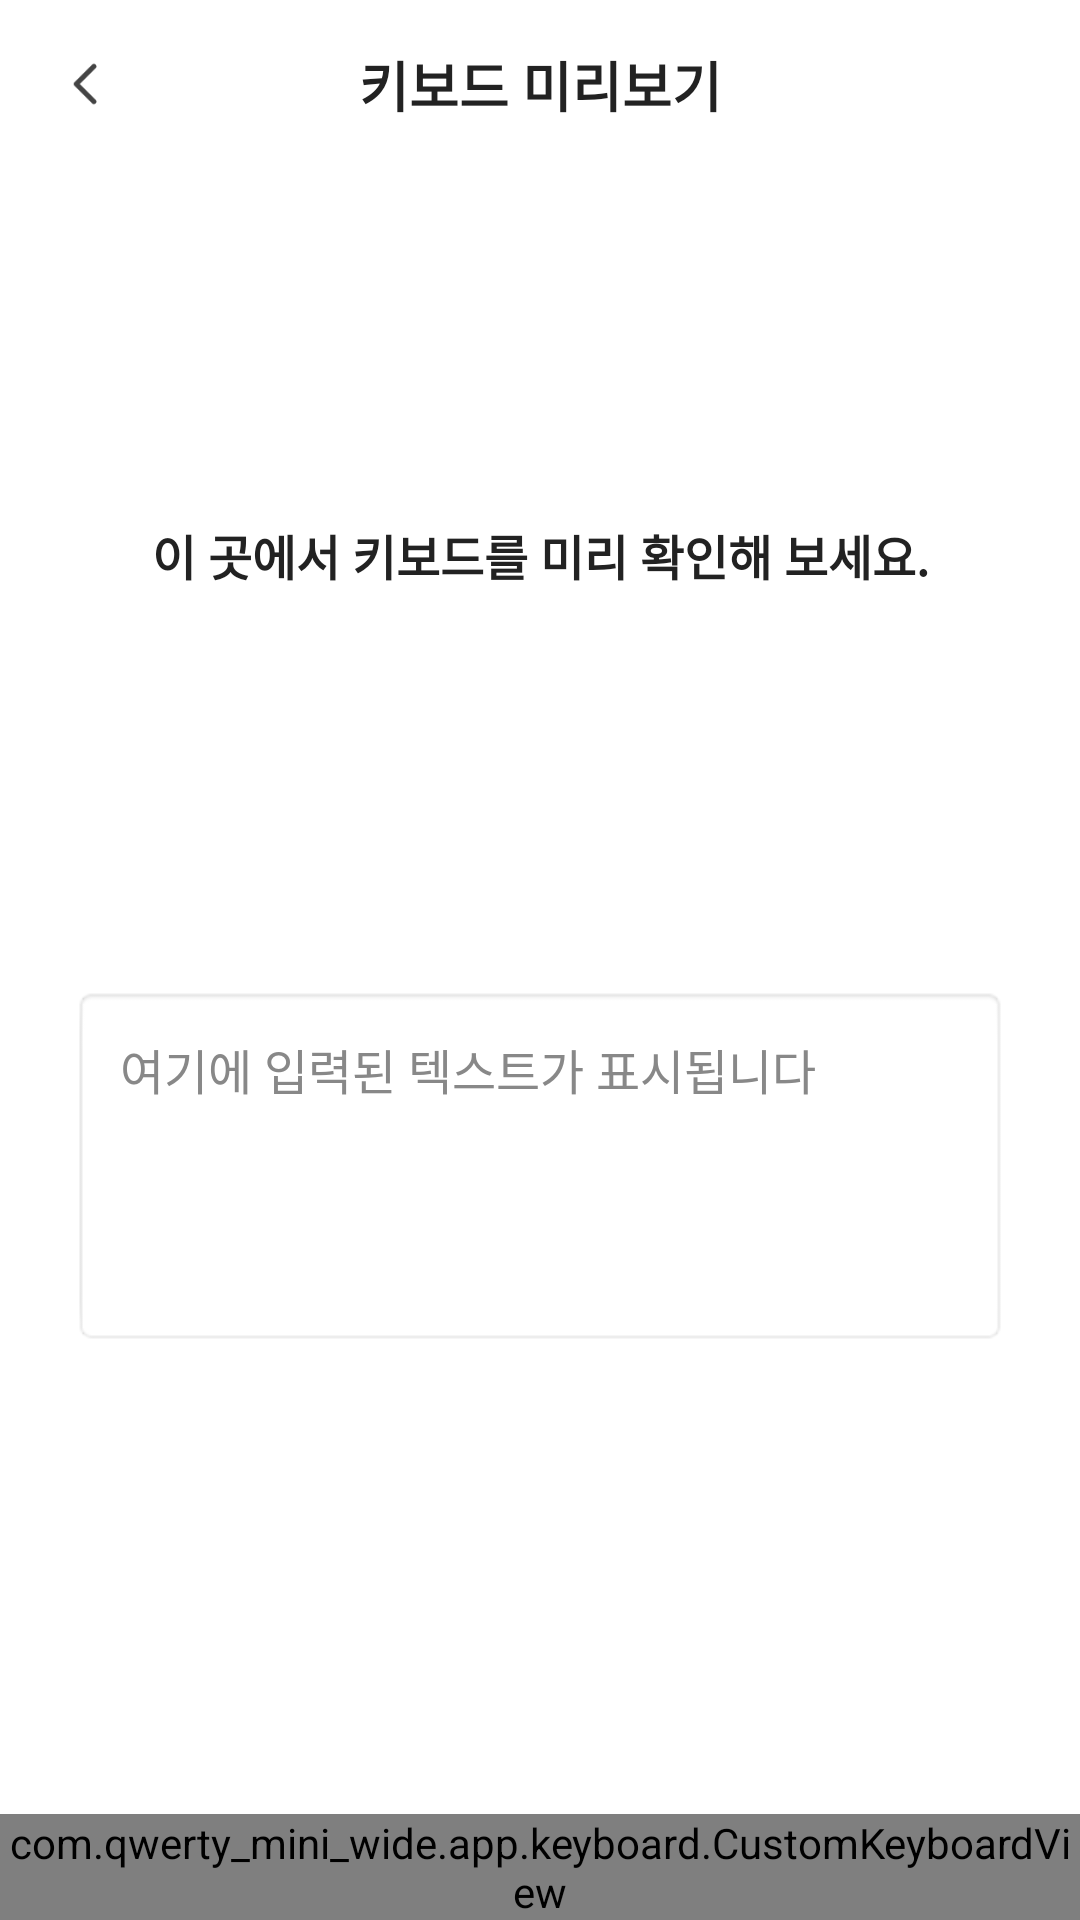

Where icons sit on this 1080w x 1920h app screen, as box=[x1, y1, x2, y2]:
뒤로가기: box=[73, 63, 97, 105]
